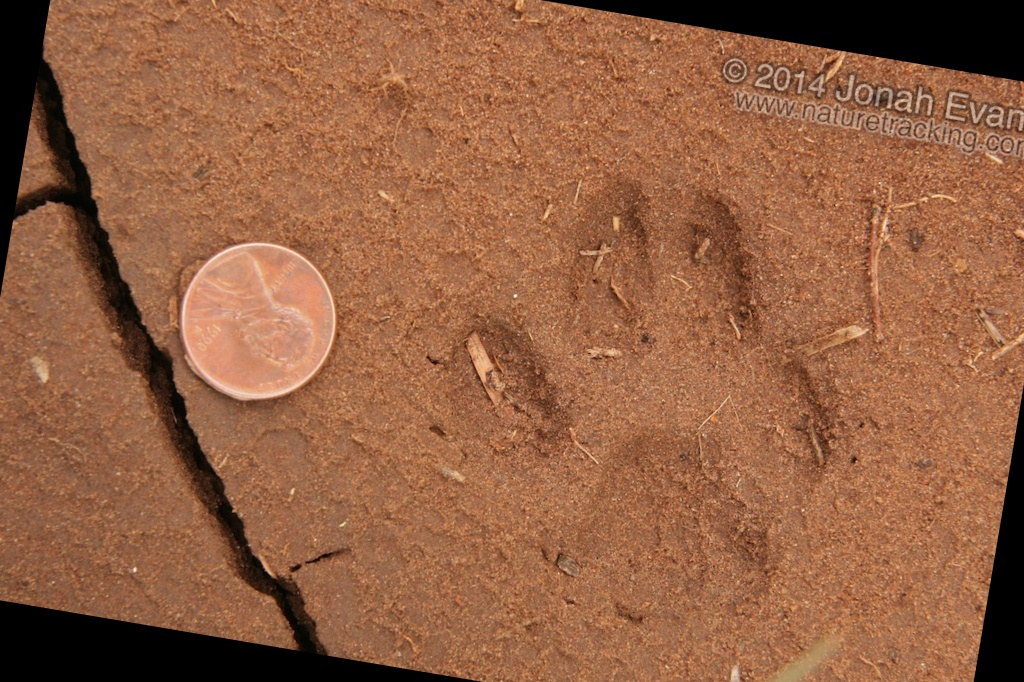lynx: (386, 126, 885, 679)
